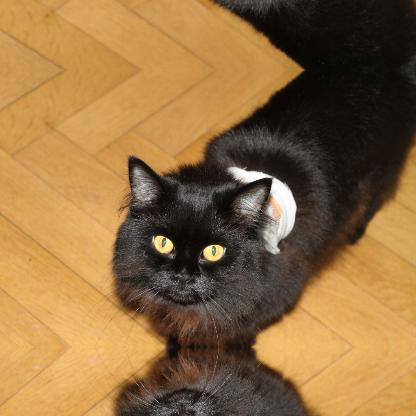Cat: (81, 69, 414, 346), (81, 0, 415, 70), (81, 346, 415, 415)
